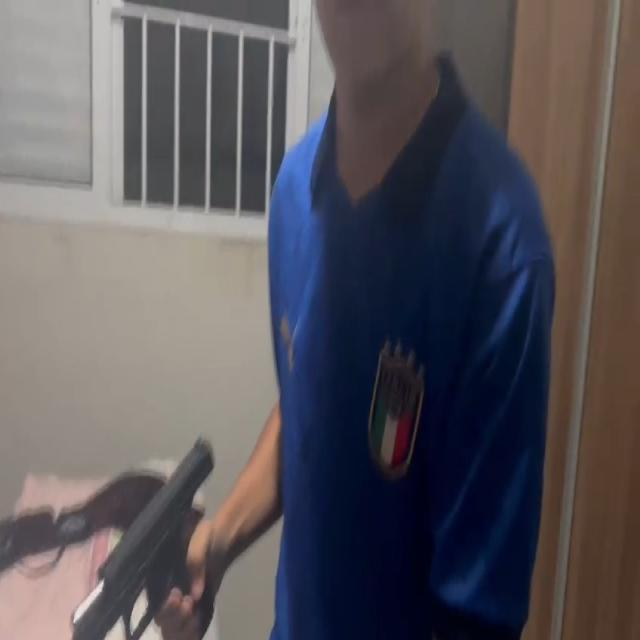gun: (68, 440, 216, 640)
